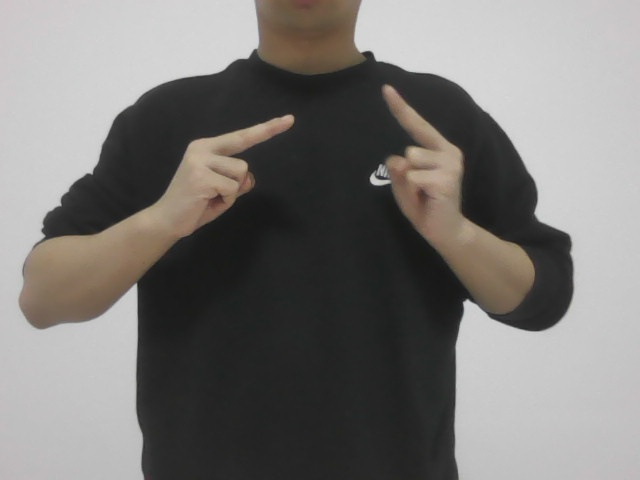know: (167, 92, 462, 265)
